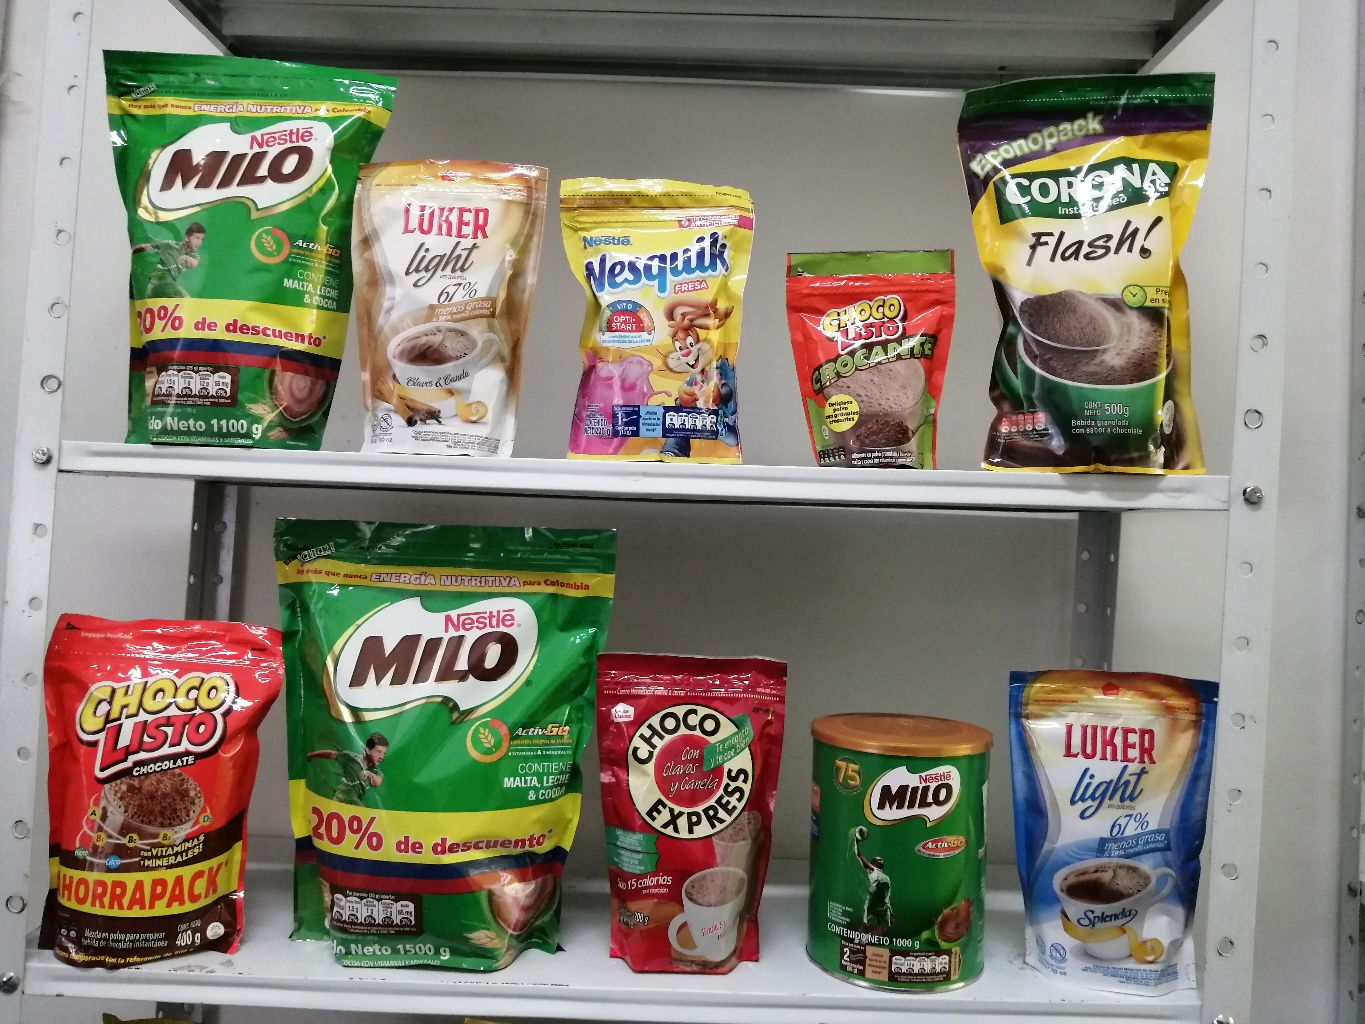COL0170102DYP10000: (786, 239, 966, 458)
COL0170103DYP40000: (19, 602, 272, 975)
COL0170305DYP20000: (552, 170, 755, 464)
